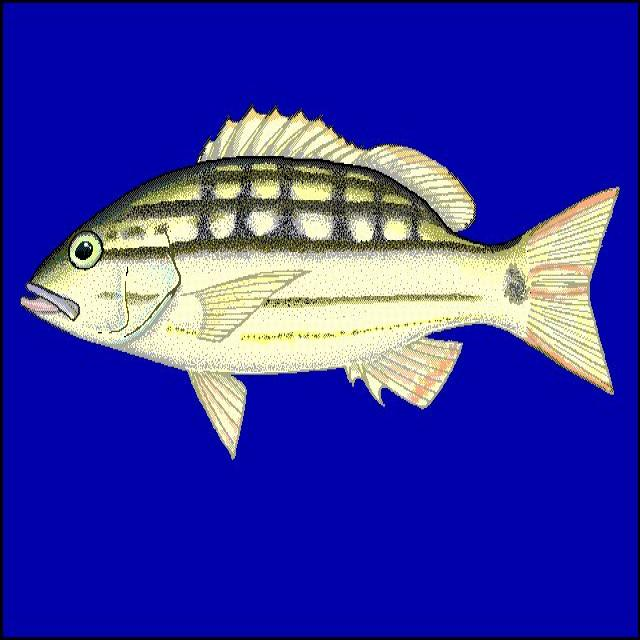ikan: (19, 105, 620, 459)
